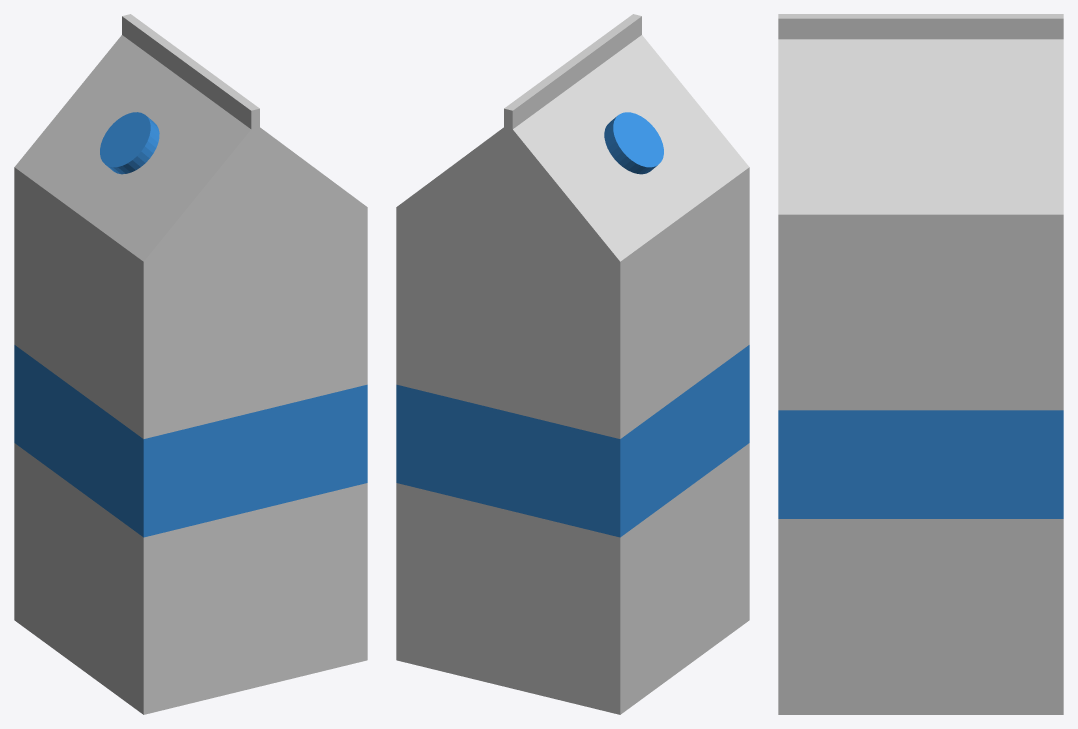
File: milk.fbx
3 views of the same model, side by side, from view 1: azimuth 30°, elevation 25°; view 2: azimuth 150°, elevation 25°; view 3: azimuth 270°, elevation 25° (orthographic). The views are drawn at different scales.
Parts seen in each view (by area): view 1: Cube.010; view 2: Cube.010; view 3: Cube.010.
Boxes of the visible parts, left/top/right/bottom form: Cube.010: left=14, top=14, right=367, bottom=714; Cube.010: left=396, top=14, right=749, bottom=714; Cube.010: left=778, top=14, right=1063, bottom=714.
Size of the model in its own units: 21.83 by 53.87 by 21.83.
